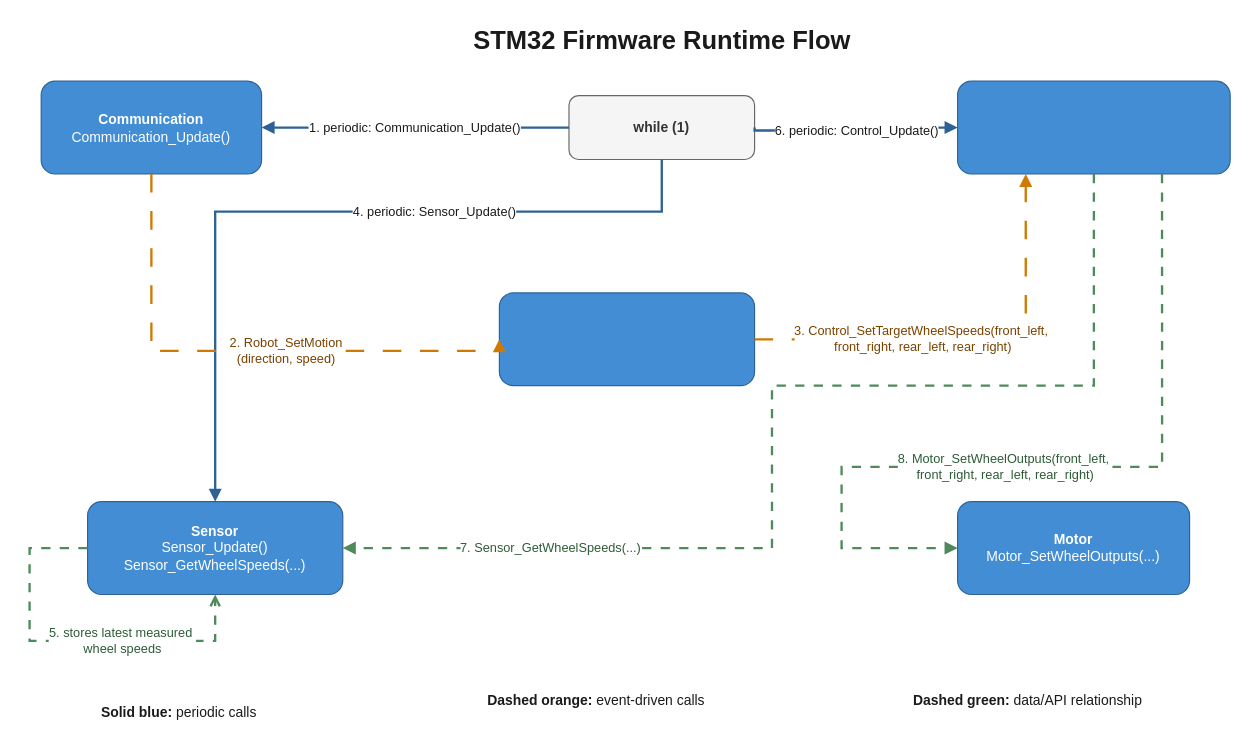
Some shapes in this 1255 by 746 pixel diagram are drawn without their labels. The shapes that lost their labels are listed below. From the top down, each one's box as (x1, y1, x2, y2) in pixels, then its label:
(956, 80, 1230, 174): Control Control_SetTargetWheelSpeeds(...) Control_Update()
(498, 292, 755, 386): Robot Robot_SetMotion(direction, speed)
